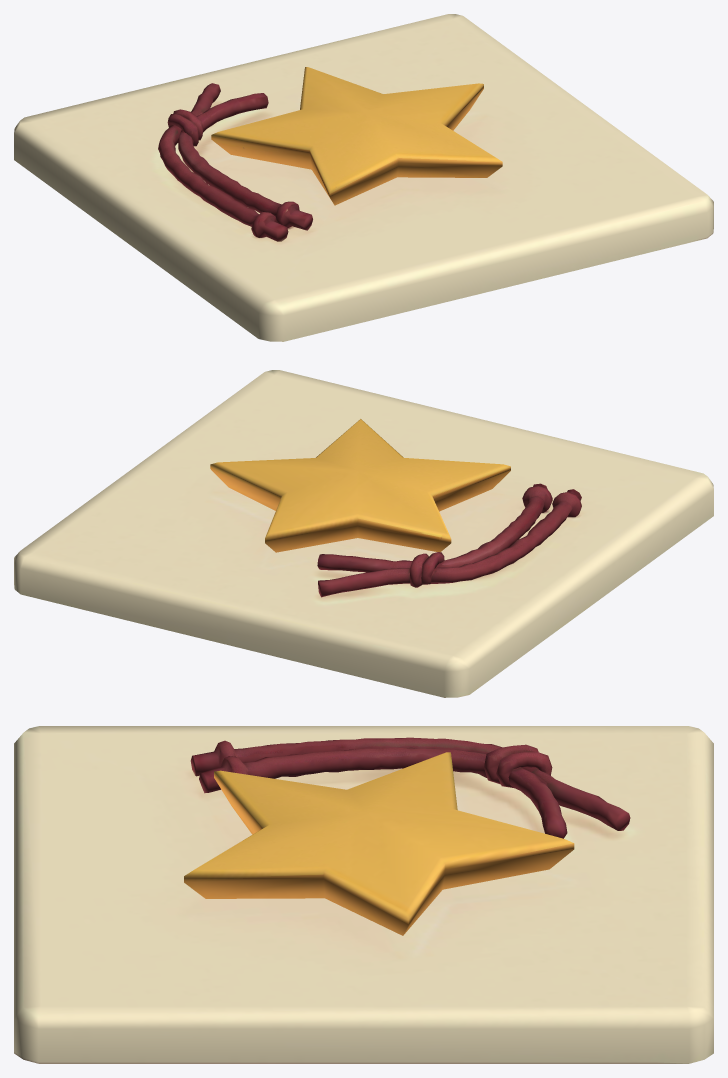
3 views of the same model, one above another, from view 1: azimuth 30°, elevation 25°; view 2: azimuth 150°, elevation 25°; view 3: azimuth 270°, elevation 25° (orthographic). The views are drawn at different scales.
Visible parts, largest first — view 1: tripo_node_0555ab6d-3301-4f3f-8699-bec35458c0df; view 2: tripo_node_0555ab6d-3301-4f3f-8699-bec35458c0df; view 3: tripo_node_0555ab6d-3301-4f3f-8699-bec35458c0df.
Boxes of the visible parts, x1,y1,x2,y2 form: tripo_node_0555ab6d-3301-4f3f-8699-bec35458c0df: (14,14,713,341); tripo_node_0555ab6d-3301-4f3f-8699-bec35458c0df: (14,370,713,697); tripo_node_0555ab6d-3301-4f3f-8699-bec35458c0df: (14,726,713,1063).
Size of the model in its own units: 0.998 by 0.166 by 0.998.
1 material, 1 textured.
